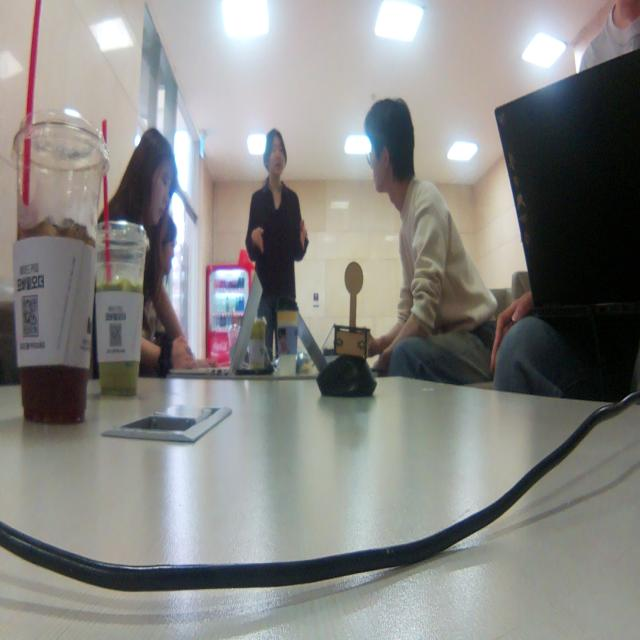target: (334, 261, 371, 361)
